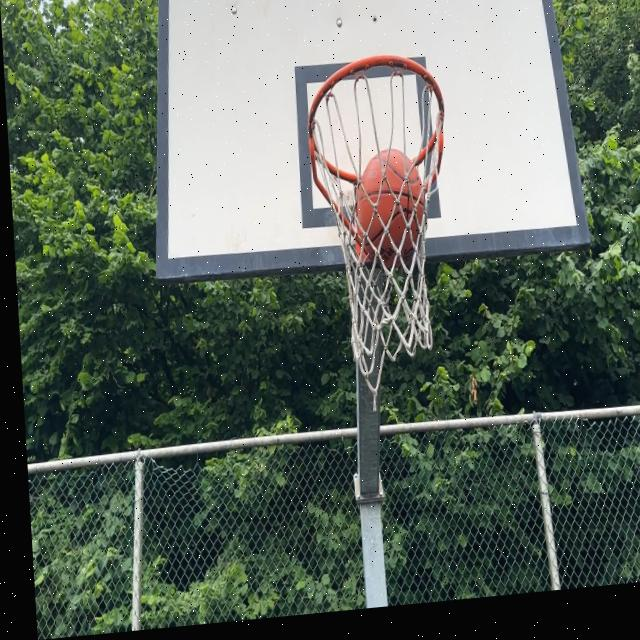Goal: (350, 145, 429, 275)
